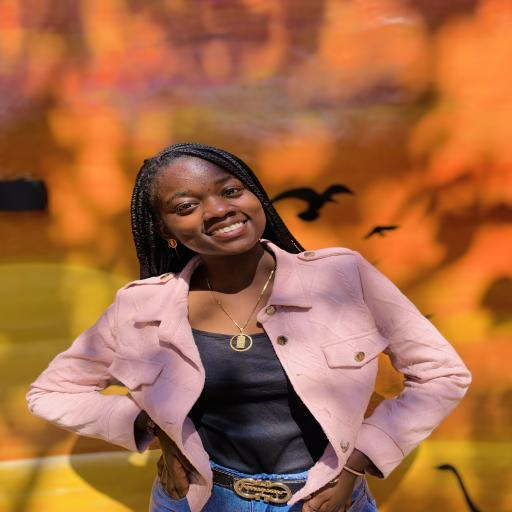LAURENE: (134, 147, 294, 274)
